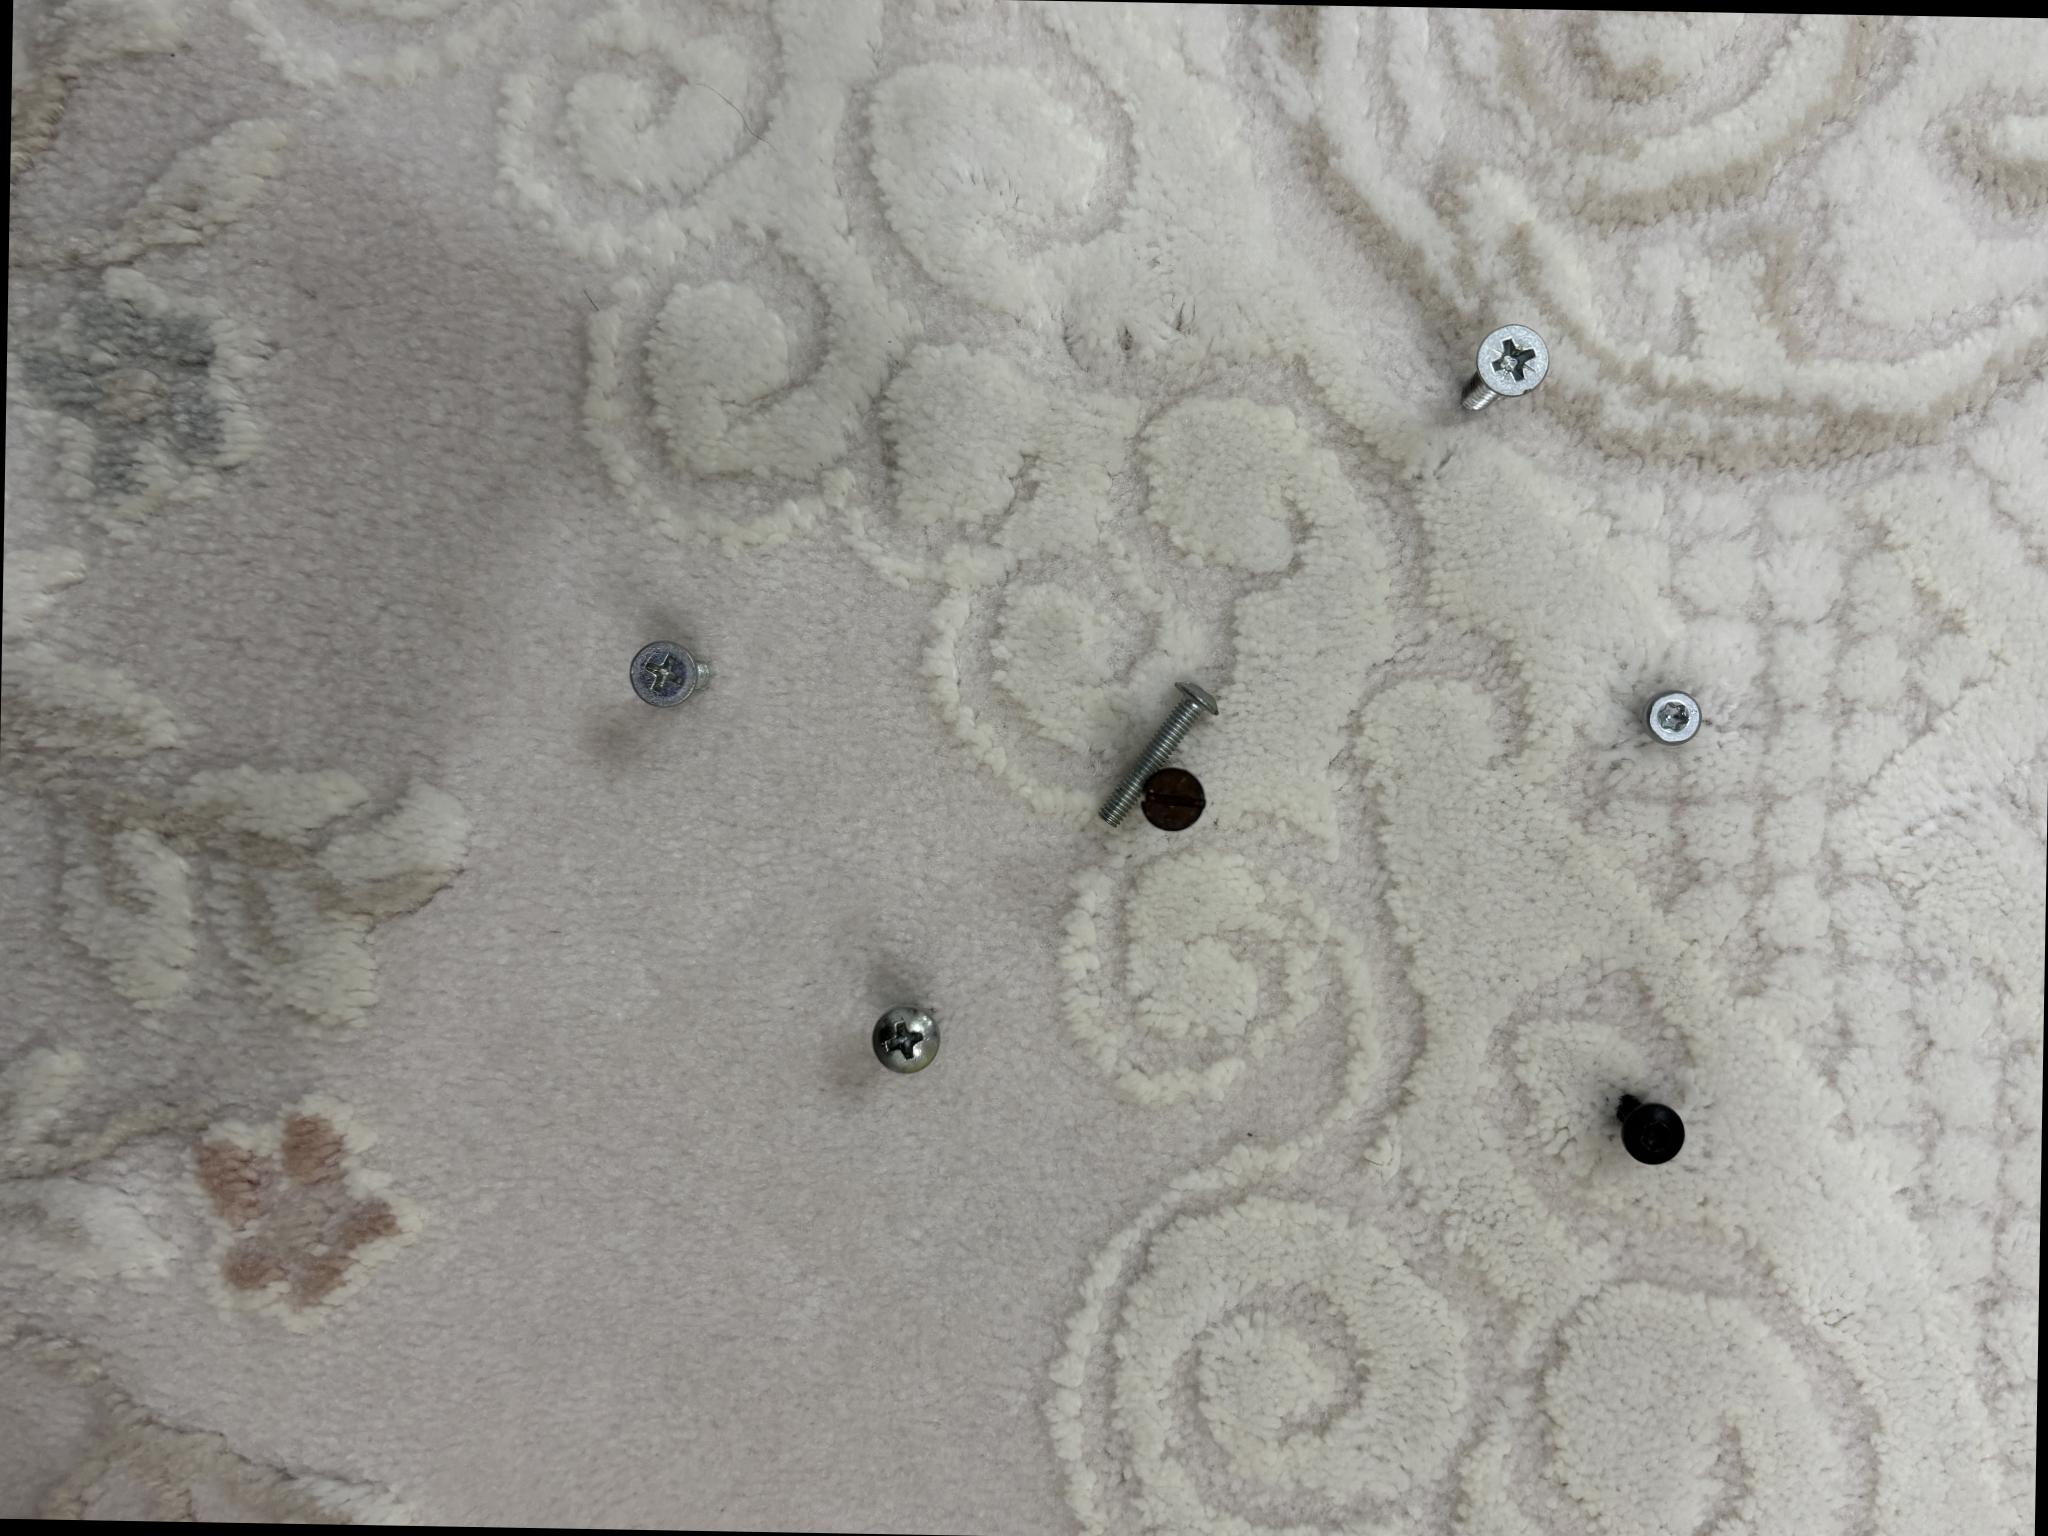H: (1601, 368, 1672, 436)
PH: (1148, 1339, 1214, 1421), (1514, 1113, 1580, 1181)
PZ: (832, 505, 919, 591)
SL: (1274, 845, 1340, 910)
T: (1198, 352, 1251, 408)
